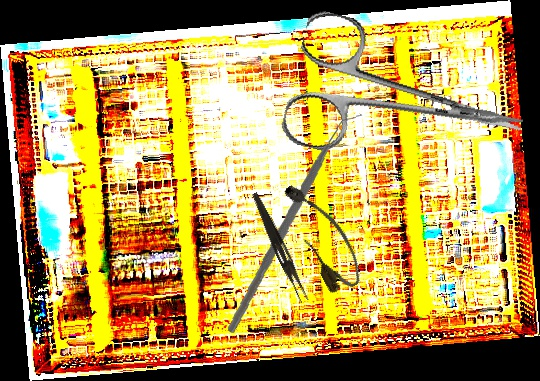Cannula: (277, 173, 369, 298)
Chopper: (213, 113, 378, 334)
Dressing Forceps: (246, 191, 313, 304)
Iris Scissors: (278, 7, 537, 197)
